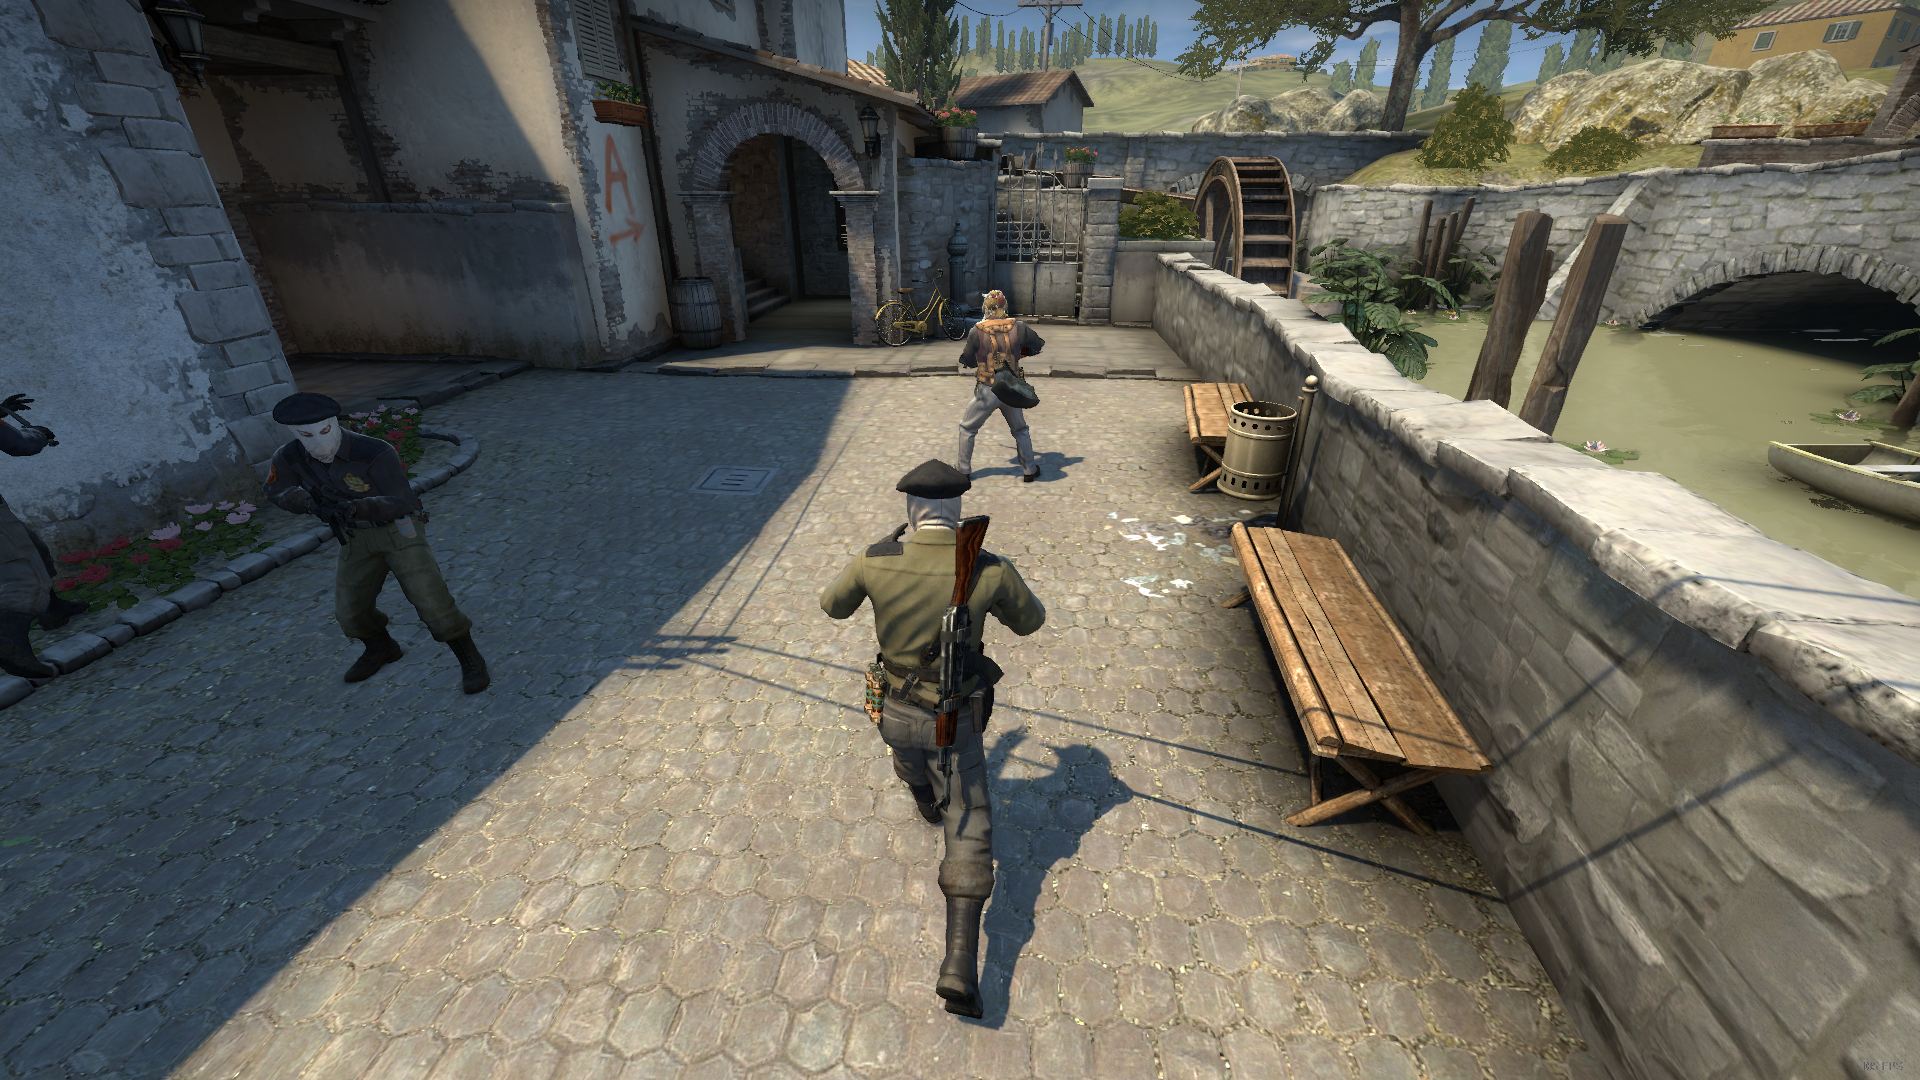t: (822, 458, 1047, 1021), (266, 394, 491, 696)
